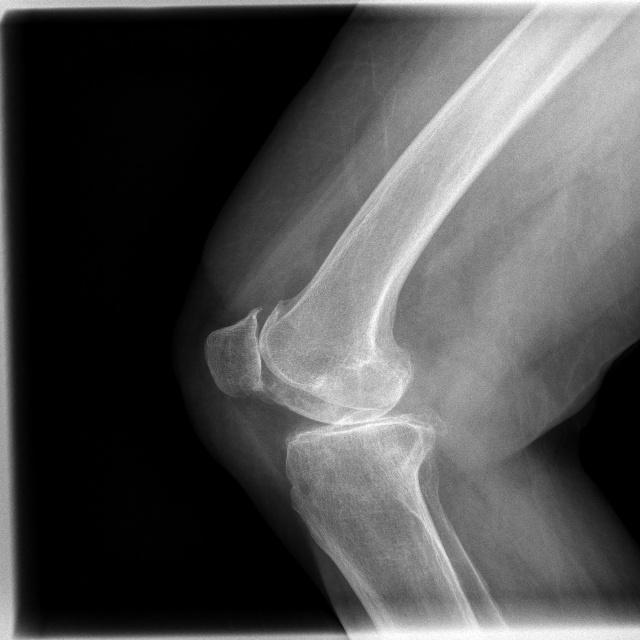Knee: (204, 308, 438, 475)
